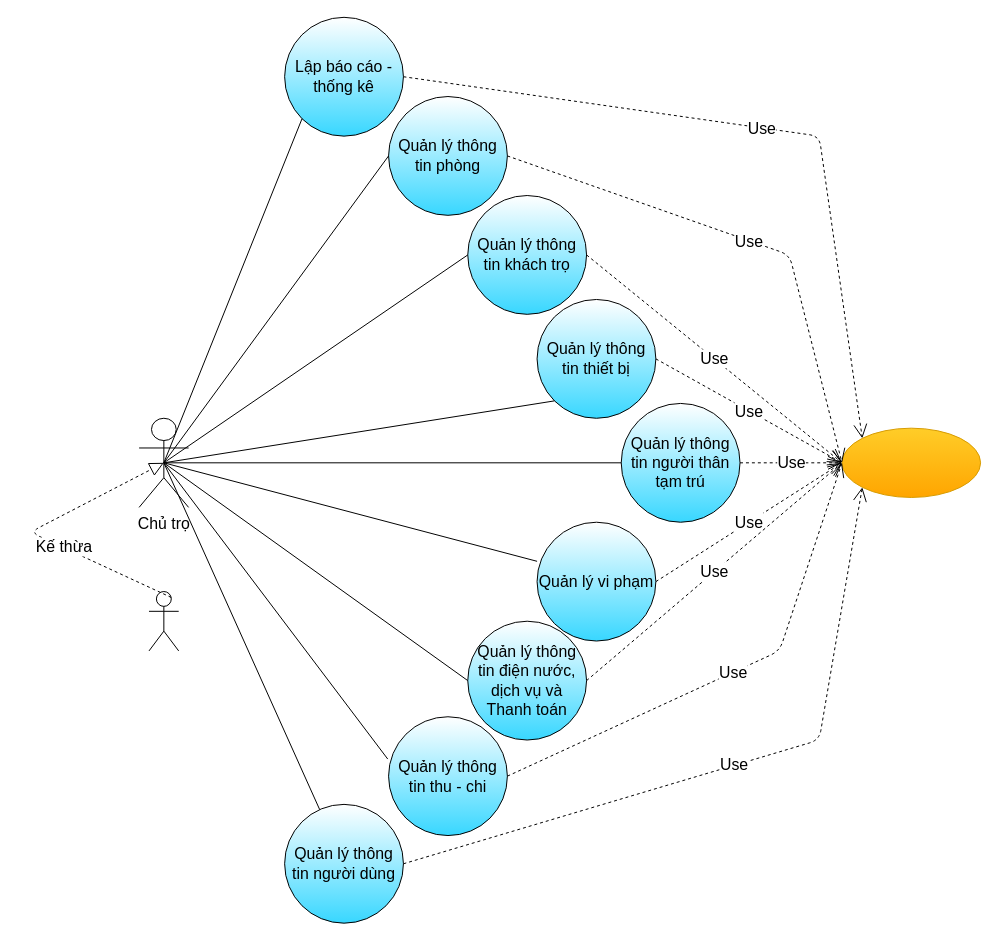
The diagram is 998 pixels wide and 941 high, and some of its shapes have lost their labels. Each missing label, with the centre of its shape:
"Quản lý" belongs at [163,621].
"Đăng nhập" belongs at [911,462].
